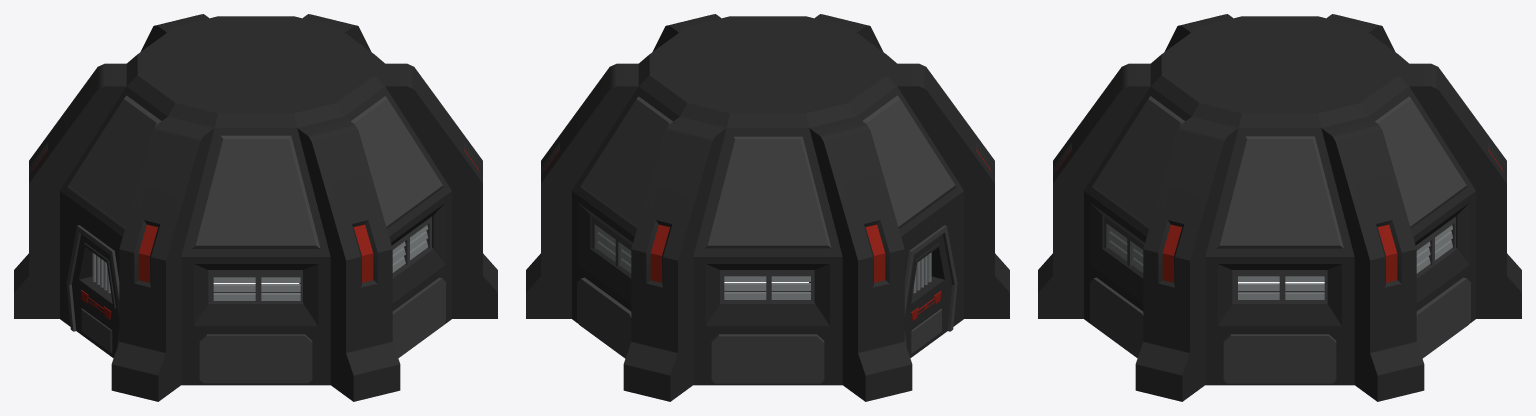
The model's file is Updated Containment Cell.fbx.
3 renders of one model, left to right at view 1: azimuth 30°, elevation 25°; view 2: azimuth 150°, elevation 25°; view 3: azimuth 270°, elevation 25°, orthographic.
Visible parts, largest first — view 1: Base_Piece, Panel_Pieces, Door_Piece, polySurface222, polySurface223; view 2: Base_Piece, Panel_Pieces, Door_Piece, polySurface220, polySurface221; view 3: Base_Piece, Panel_Pieces, polySurface224, polySurface225.
Boxes of the visible parts, <box> form: Base_Piece: <box>14,14,497,401</box>; Panel_Pieces: <box>67,95,445,383</box>; Door_Piece: <box>72,234,119,357</box>; polySurface222: <box>138,224,157,282</box>; polySurface223: <box>354,224,373,282</box>; Base_Piece: <box>526,14,1009,401</box>; Panel_Pieces: <box>577,95,956,383</box>; Door_Piece: <box>904,234,951,357</box>; polySurface220: <box>650,224,669,282</box>; polySurface221: <box>866,224,885,282</box>; Base_Piece: <box>1038,14,1521,401</box>; Panel_Pieces: <box>1090,96,1470,383</box>; polySurface224: <box>1162,224,1181,282</box>; polySurface225: <box>1378,224,1397,282</box>.
Size of the model in its own units: 7.24 by 4.35 by 7.85.
